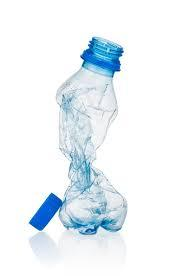plastic: (56, 37, 125, 227)
